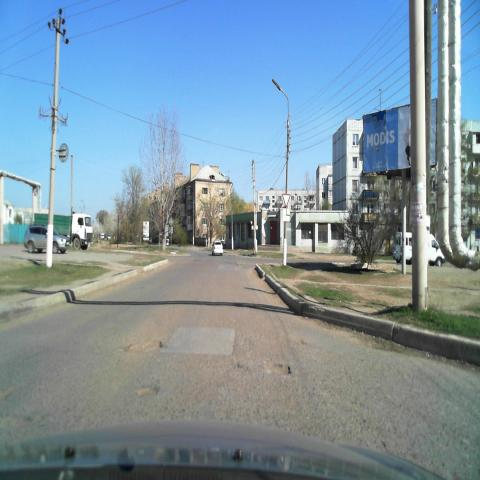8_13: (283, 208, 290, 222)
